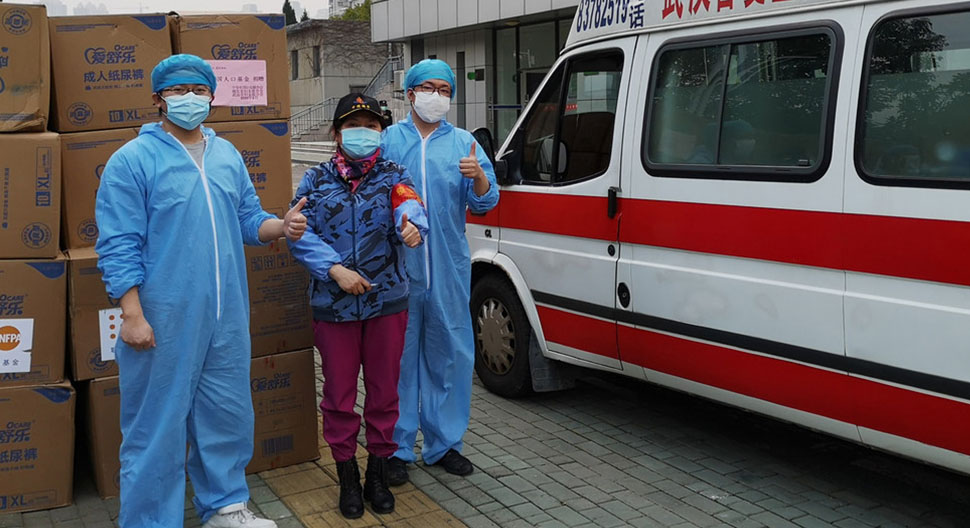with_mask: (158, 73, 210, 132), (410, 79, 456, 128), (337, 116, 383, 162)
